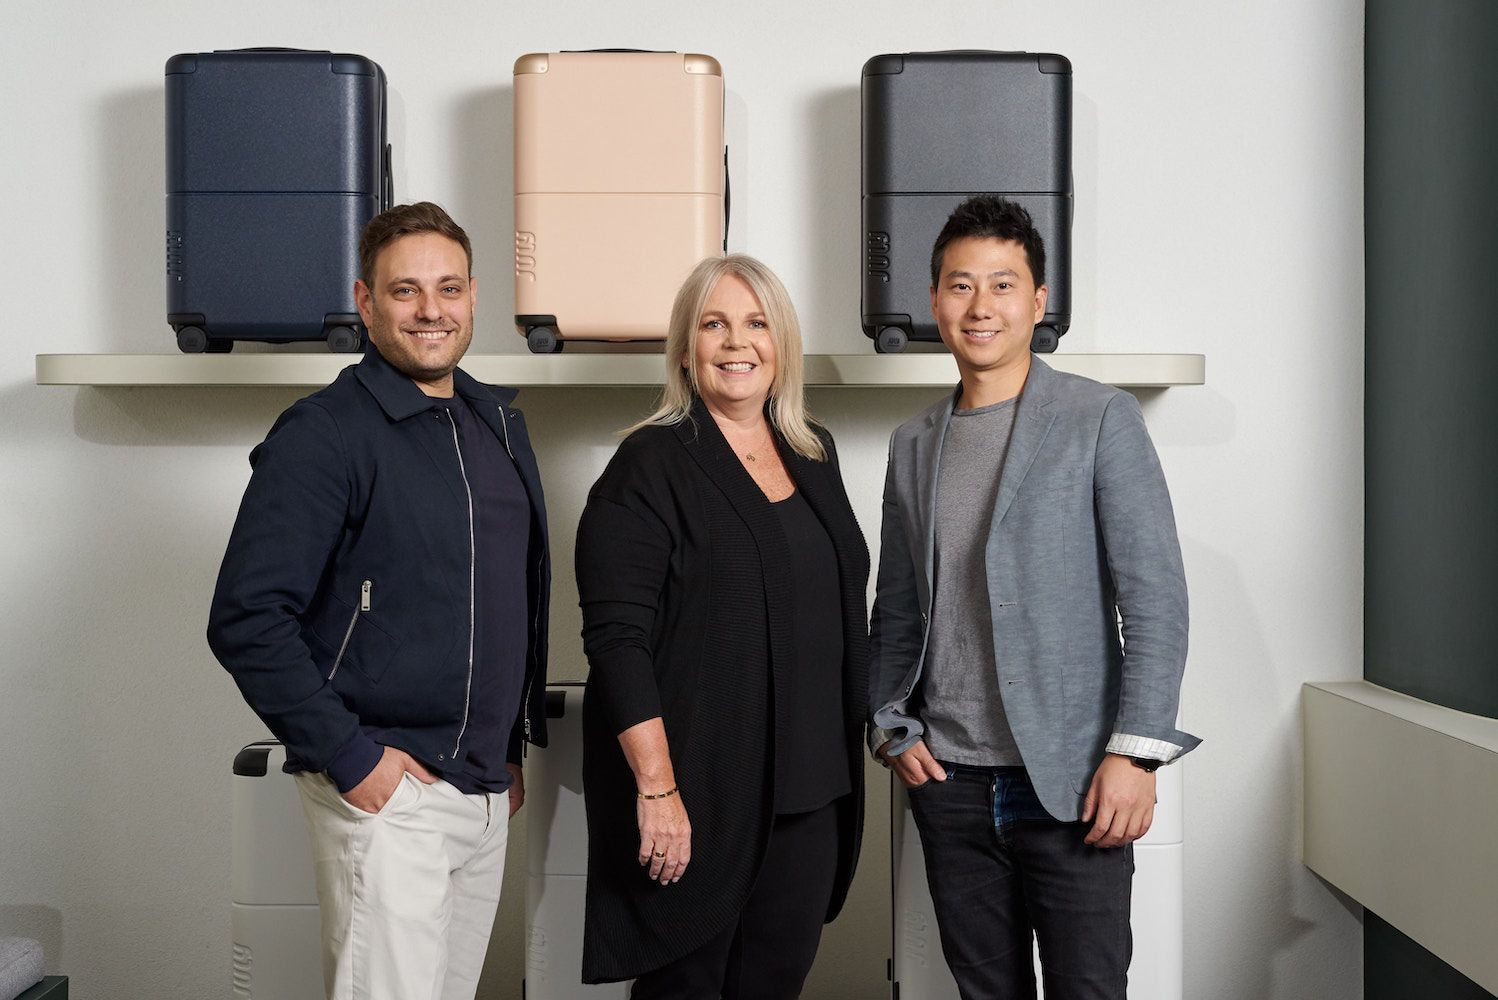luggage: (153, 50, 368, 330), (512, 57, 692, 328), (856, 62, 1047, 265), (536, 687, 609, 1000), (231, 743, 319, 998)
